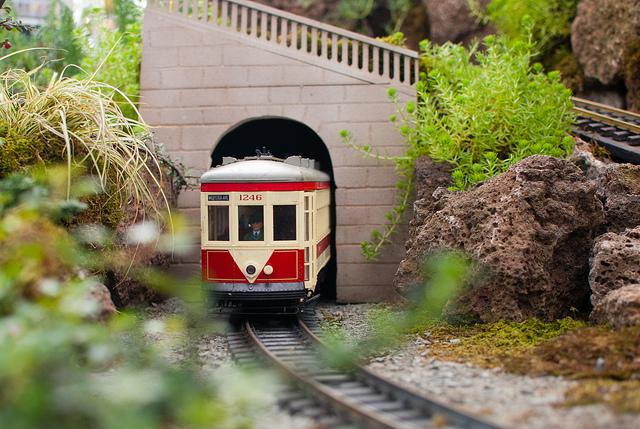Train: (200, 152, 342, 325)
